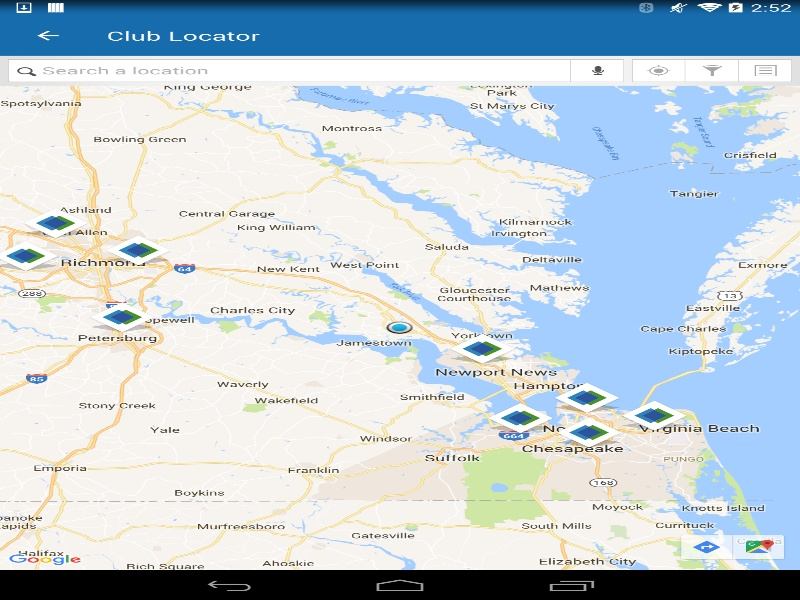Button: (10, 15, 85, 55), (570, 59, 624, 81), (738, 59, 792, 81), (632, 59, 685, 81), (685, 59, 738, 81)
Input: (17, 59, 564, 81)
